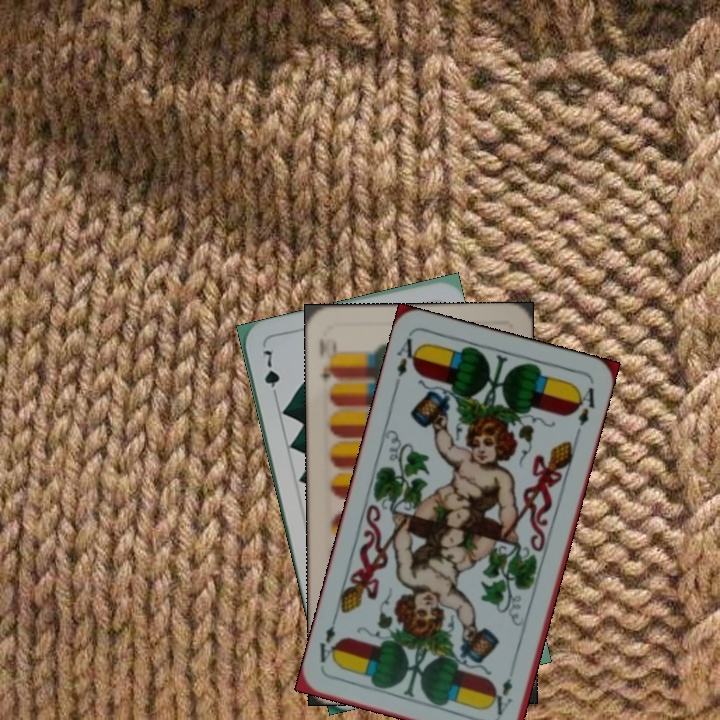E10: (317, 348, 339, 384)
EA: (390, 334, 423, 390), (492, 674, 515, 718)
G7: (259, 346, 283, 403)
